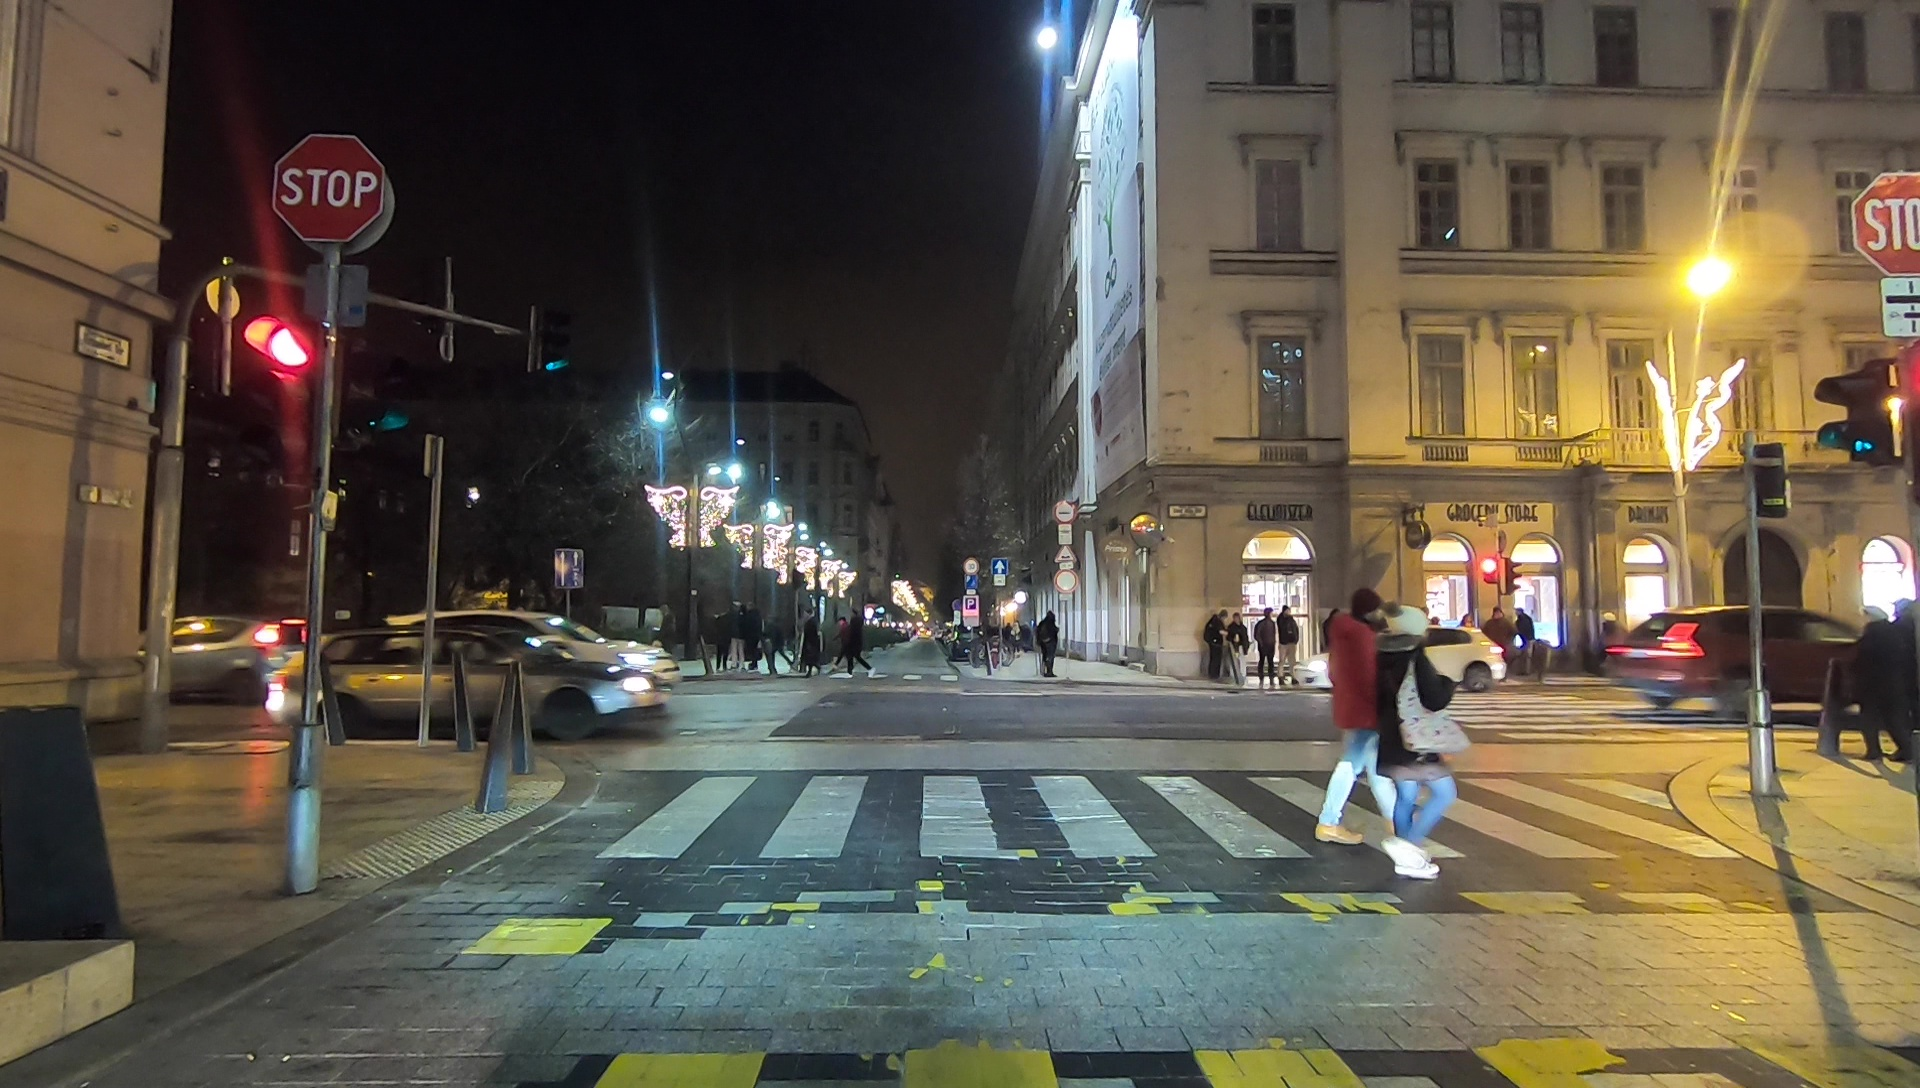person: (1323, 591, 1406, 850), (1378, 604, 1456, 878), (1852, 600, 1893, 763), (1888, 589, 1920, 760), (797, 613, 821, 678), (1486, 610, 1512, 671), (1280, 608, 1301, 682), (1254, 610, 1275, 678), (1517, 608, 1538, 673), (1204, 615, 1225, 673), (1228, 615, 1249, 671), (1039, 617, 1060, 674), (845, 613, 864, 671), (747, 611, 764, 667), (732, 610, 745, 667), (714, 615, 726, 669)
